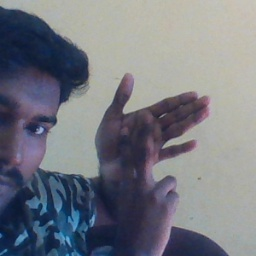N: (87, 73, 215, 201)
